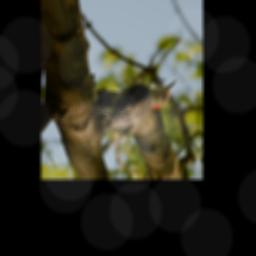Woodpecker: (89, 77, 177, 131)
